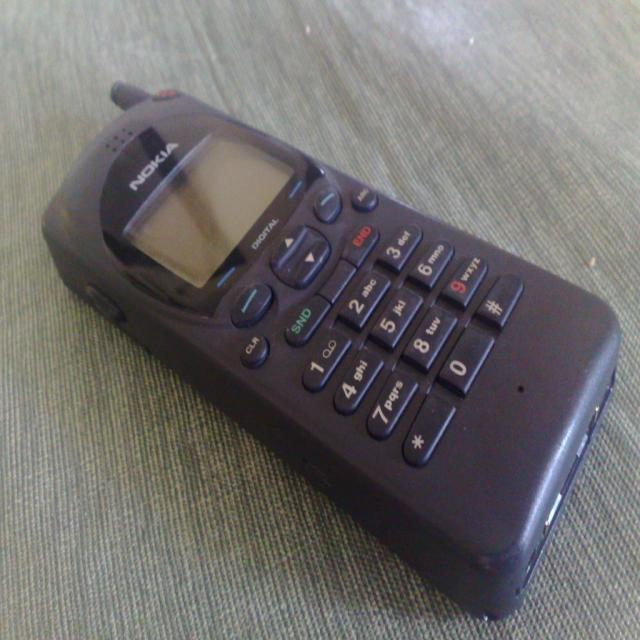Mobile-phone: (38, 84, 636, 606)
